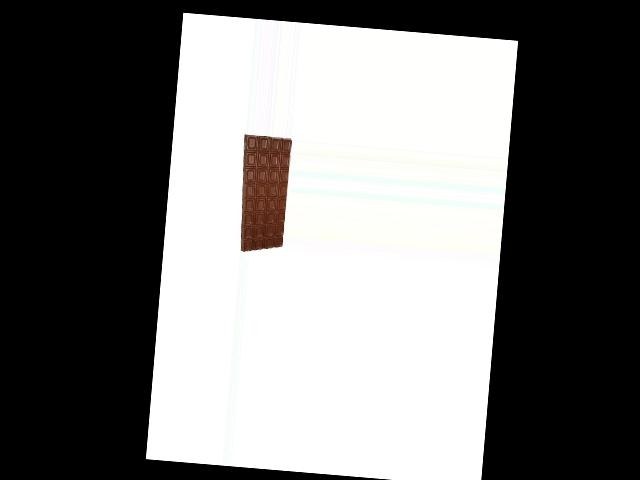chocolate: (236, 133, 292, 256)
